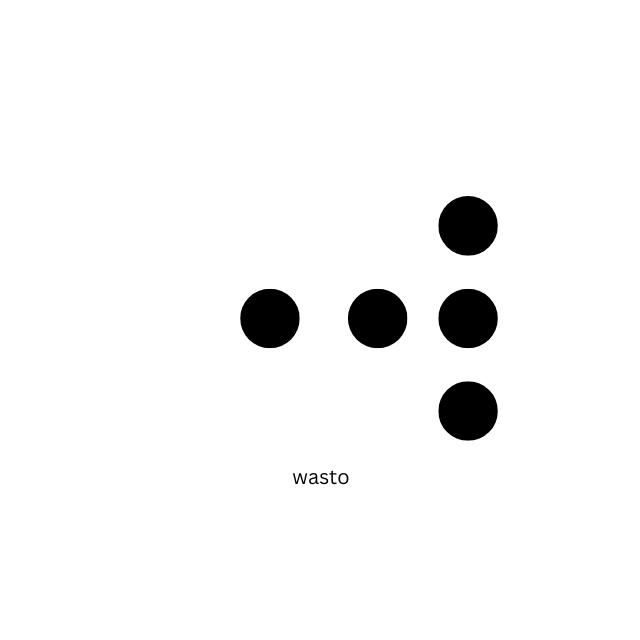dot_5: (149, 195, 302, 444)
two_cell_alphabet_wasto: (345, 193, 498, 442)
